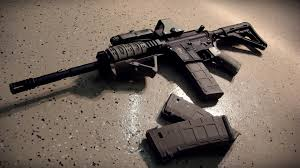rifle: (17, 19, 271, 102)
